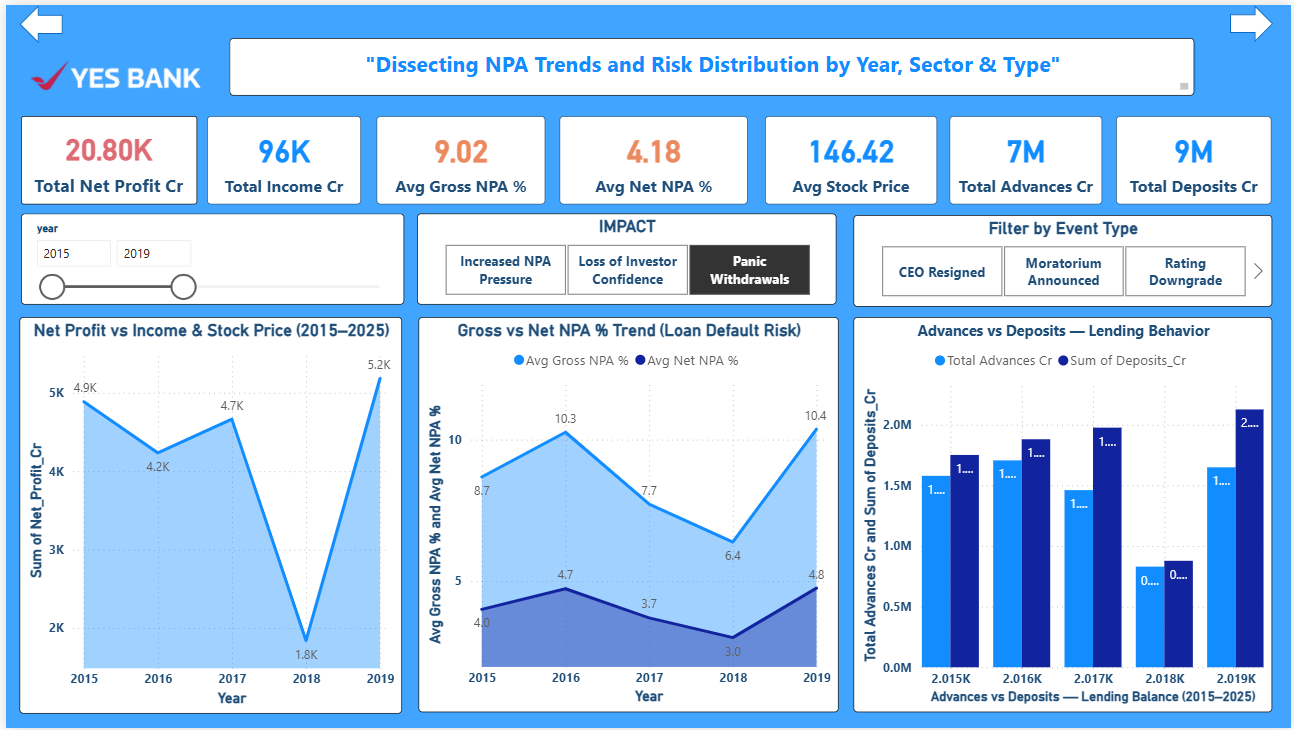

The page's visual inventory and layout, read from the dashboard file:
{"tool":"powerbi","page":{"name":" NPA Risk Breakdown","canvas":[1280,720],"ordinal":2},"visuals":[{"type":"card","fields":{"Values":["Bank Data.Total Net Profit Cr"]},"box":[15.2,110.4,175.2,88.3],"z":0},{"type":"card","fields":{"Values":["Bank Data.Total Income Cr"]},"box":[200,110.4,153.1,88.3],"z":1000},{"type":"card","fields":{"Values":["Bank Data.Avg Gross NPA %"]},"box":[368.4,110.4,168.3,88.3],"z":2000},{"type":"card","fields":{"Values":["Bank Data.Avg Net NPA %"]},"box":[550.5,110.4,187.6,88.3],"z":3000},{"type":"card","fields":{"Values":["Bank Data.Avg Stock Price"]},"box":[754.6,110.4,171.1,88.3],"z":4000},{"type":"card","fields":{"Values":["Bank Data.Total Deposits Cr"]},"box":[1105.1,110.4,154.5,88.3],"z":5000},{"type":"lineChart","title":" Net Profit vs Income & Stock Price (2015–2025)","fields":{"Y":["Sum(Bank Data.Net_Profit_Cr)"],"Category":["Bank Data.Year"]},"box":[13.8,310.4,380.8,394.6],"z":6000},{"type":"areaChart","title":"Gross vs Net NPA % Trend (Loan Default Risk)","fields":{"Y":["Bank Data.Avg Gross NPA %","Bank Data.Avg Net NPA %"],"Category":["Bank Data.Year.Variation.Date Hierarchy.Year"]},"box":[409.7,310.4,418,393.2],"z":7000},{"type":"clusteredColumnChart","title":"Advances vs Deposits — Lending Behavior","fields":{"Category":["Bank Data.Year"],"Y":["Bank Data.Total Advances Cr","Sum(Bank Data.Deposits_Cr)"]},"box":[842.9,310.4,416.6,393.2],"z":8000},{"type":"card","fields":{"Values":["Bank Data.Total Advances Cr"]},"box":[939.5,110.4,151.8,88.3],"z":9000},{"type":"slicer","title":"YEAR","fields":{"Values":["Bank Data.Year 1"]},"box":[15.1,208.1,381.4,90.7],"z":10000},{"type":"slicer","title":"Filter by Event Type","fields":{"Values":["Bank Data.Major_Event"]},"box":[842.9,208.3,416.6,91.1],"z":11000},{"type":"slicer","title":"IMPACT","fields":{"Values":["Bank Data.Impact"]},"box":[409.3,208.1,417.4,90.7],"z":12000},{"type":"textbox","title":"\"Dissecting NPA Trends and Risk Distribution by Year, Sector & Type\"","box":[222.1,32.4,960.3,57.4],"z":13000},{"type":"image","box":[0,0,222.1,141.9],"z":15000},{"type":"shape","box":[1217.4,0,43,37.2],"z":16000},{"type":"shape","box":[14,0,43,38.4],"z":17000}]}

Visuals, with their boxes in screenshot pixels (x1, y1, x2, y2), scaled from the page's 1280x720 canvas onto the 1294x730 screenshot:
card - Bank Data.Total Net Profit Cr: 15:112:192:201
card - Bank Data.Total Income Cr: 202:112:357:201
card - Bank Data.Avg Gross NPA %: 372:112:543:201
card - Bank Data.Avg Net NPA %: 557:112:746:201
card - Bank Data.Avg Stock Price: 763:112:936:201
card - Bank Data.Total Deposits Cr: 1117:112:1273:201
" Net Profit vs Income & Stock Price (2015–2025)" lineChart: 14:315:399:715
"Gross vs Net NPA % Trend (Loan Default Risk)" areaChart: 414:315:837:713
"Advances vs Deposits — Lending Behavior" clusteredColumnChart: 852:315:1273:713
card - Bank Data.Total Advances Cr: 950:112:1103:201
"YEAR" slicer: 15:211:401:303
"Filter by Event Type" slicer: 852:211:1273:304
"IMPACT" slicer: 414:211:836:303
""Dissecting NPA Trends and Risk Distribution by Year, Sector & Type"" textbox: 225:33:1195:91
image: 0:0:225:144
shape: 1231:0:1274:38
shape: 14:0:58:39
